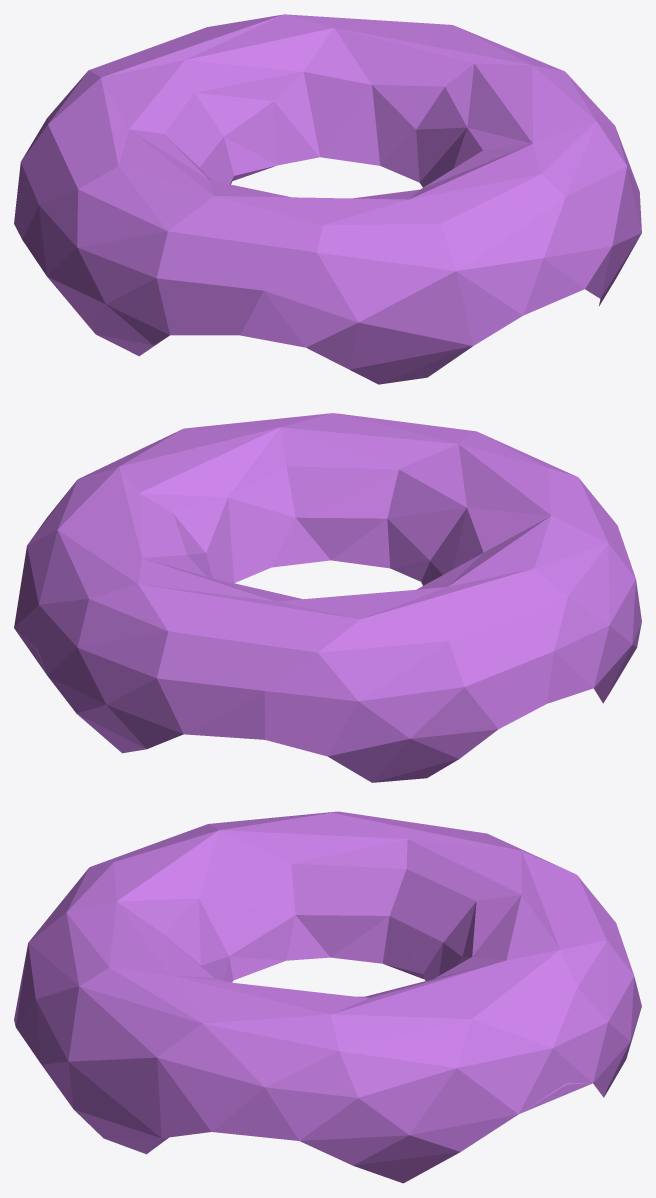
The model's file is DONUT.fbx.
3 views of the same model, one above another, from view 1: azimuth 30°, elevation 25°; view 2: azimuth 150°, elevation 25°; view 3: azimuth 270°, elevation 25° (orthographic).
Visible parts, largest first — view 1: DONUT; view 2: DONUT; view 3: DONUT.
Part boxes in pixels (x1,y1,x2,y2): DONUT: (14, 14, 641, 384); DONUT: (14, 413, 641, 782); DONUT: (14, 811, 641, 1183).
Bounding box in the file's own units: 17.72 × 4.84 × 17.73.
